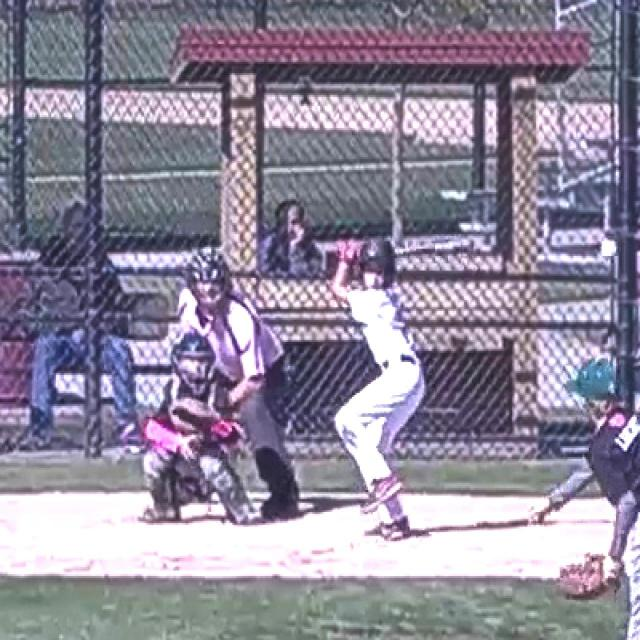baseball: (602, 240, 616, 256)
